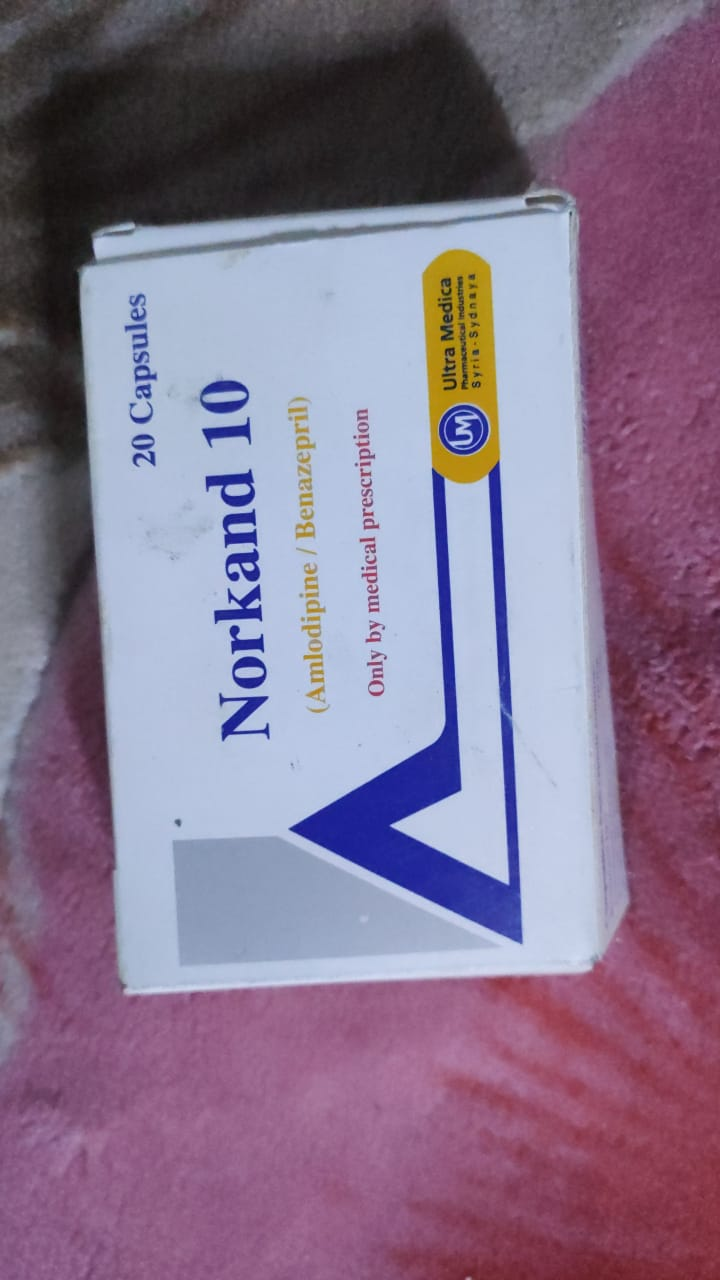Medicine: (47, 187, 650, 1000)
